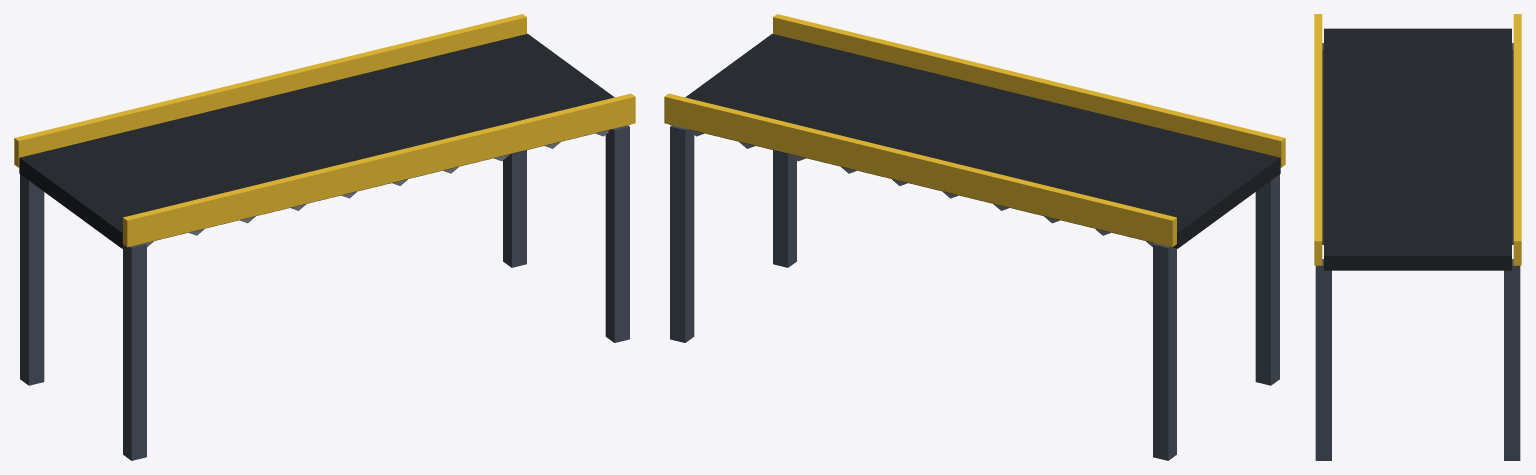
Rendered from conveyor_section_2m.glb.
The picture shows the model from 3 angles, left to right: view 1: azimuth 30°, elevation 25°; view 2: azimuth 150°, elevation 25°; view 3: azimuth 270°, elevation 25°; orthographic projection. The views are drawn at different scales.
Parts seen in each view (by area): view 1: conveyor_section_2m; view 2: conveyor_section_2m; view 3: conveyor_section_2m.
Part boxes in pixels (x1,y1,x2,y2): conveyor_section_2m: (14,14,635,460); conveyor_section_2m: (664,14,1285,460); conveyor_section_2m: (1314,14,1521,460).
Bounding box in the file's own units: 2 × 0.91 × 0.77.
